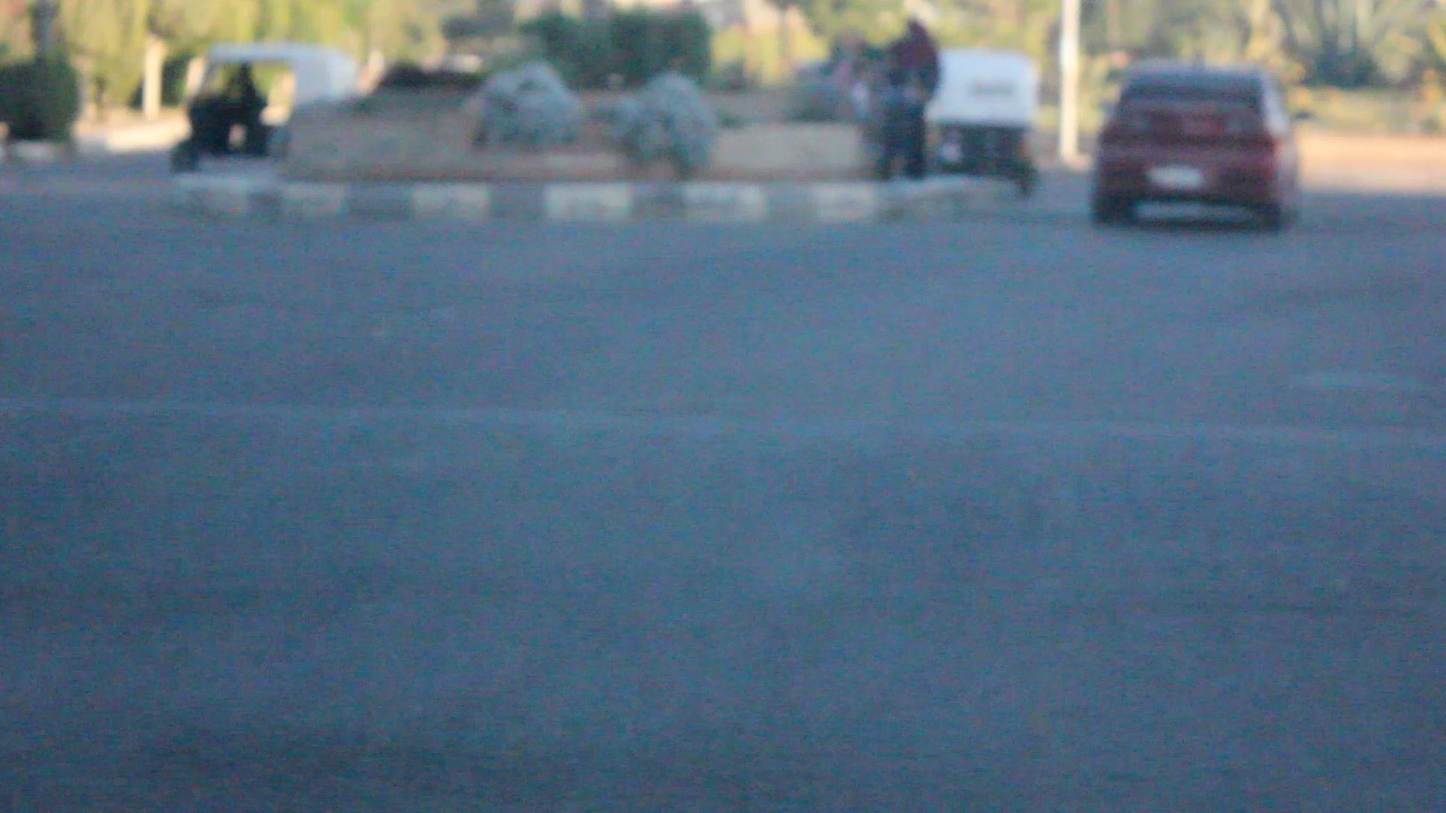Bump: (2, 405, 1440, 629)
